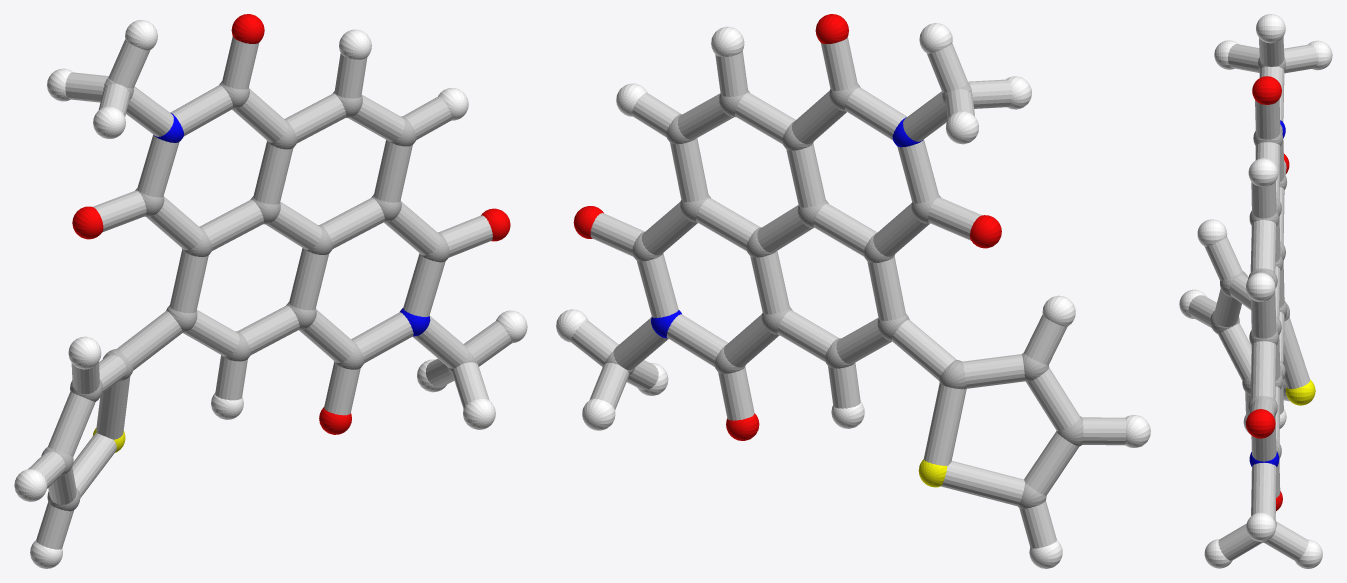
Rendered from Dimethyl_Naphthalene_Dicarboximide_Phi_25_Theta_330_Thiophene.glb.
The picture shows the model from 3 angles, left to right: view 1: azimuth 30°, elevation 25°; view 2: azimuth 150°, elevation 25°; view 3: azimuth 270°, elevation 25°; orthographic projection. The views are drawn at different scales.
Visible parts, largest first — view 1: grp14119, grp7241, grp1, grp12309, grp11585; view 2: grp14119, grp7241, grp1, grp12309, grp11585; view 3: grp14119, grp7241, grp1, grp12309, grp13757, grp11585.
Part boxes in pixels (x1,y1,x2,y2): grp14119: (28,36,511,549); grp7241: (14,20,527,568); grp1: (41,77,477,511); grp12309: (72,14,510,434); grp11585: (154,112,430,336); grp14119: (570,37,1126,548); grp7241: (556,23,1150,568); grp1: (604,82,1083,508); grp12309: (573,14,1001,440); grp11585: (651,117,922,338); grp14119: (1188,36,1317,560); grp7241: (1179,14,1332,568); grp1: (1210,57,1289,542); grp12309: (1246,76,1289,510); grp13757: (1286,379,1315,405); grp11585: (1249,120,1285,466).
Size of the model in its own units: 11.46 by 10.36 by 3.09.
